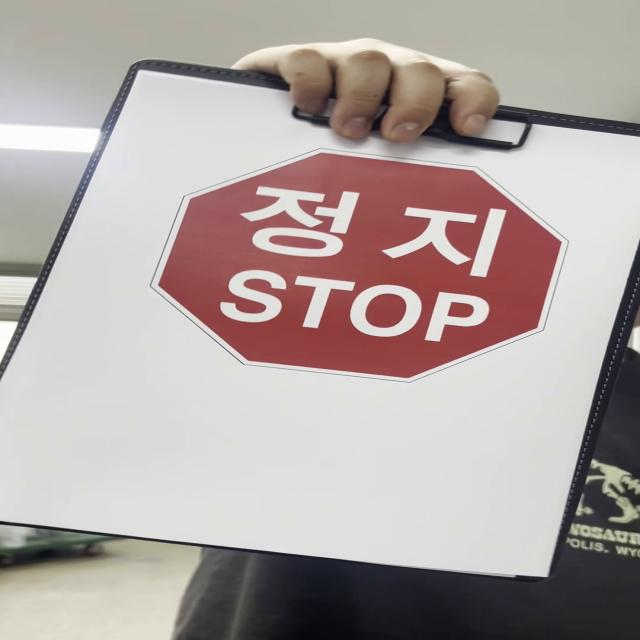stop: (152, 146, 575, 383)
